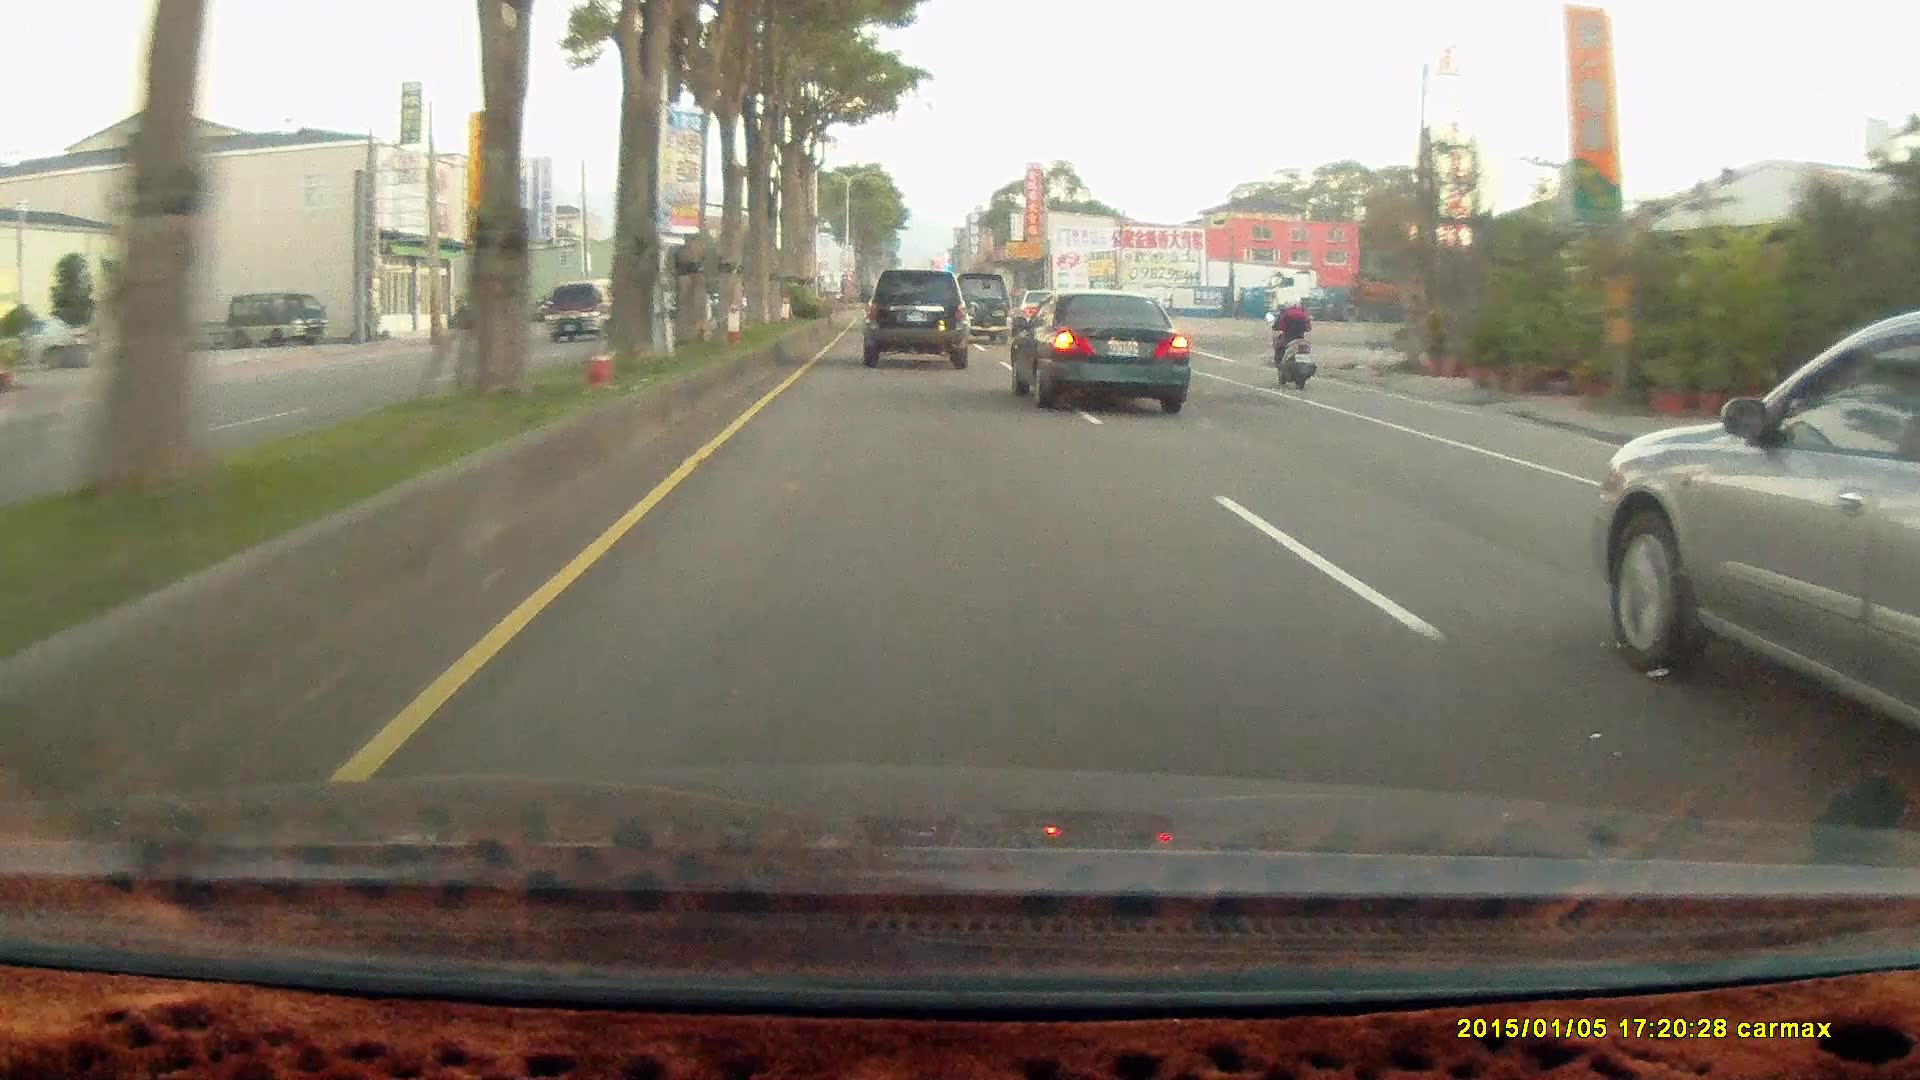rider: (1258, 285, 1325, 398), (1264, 289, 1317, 390)
vehicle: (1587, 302, 1920, 759), (1008, 288, 1194, 412), (1008, 288, 1190, 414), (1269, 265, 1508, 323), (859, 268, 973, 369), (858, 269, 966, 367), (225, 293, 326, 348), (948, 272, 1014, 347), (543, 283, 616, 345)
